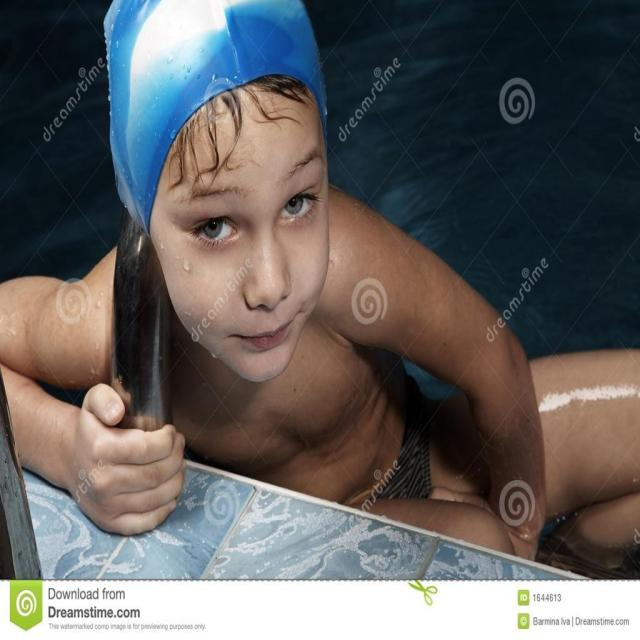Face: (121, 7, 344, 398)
